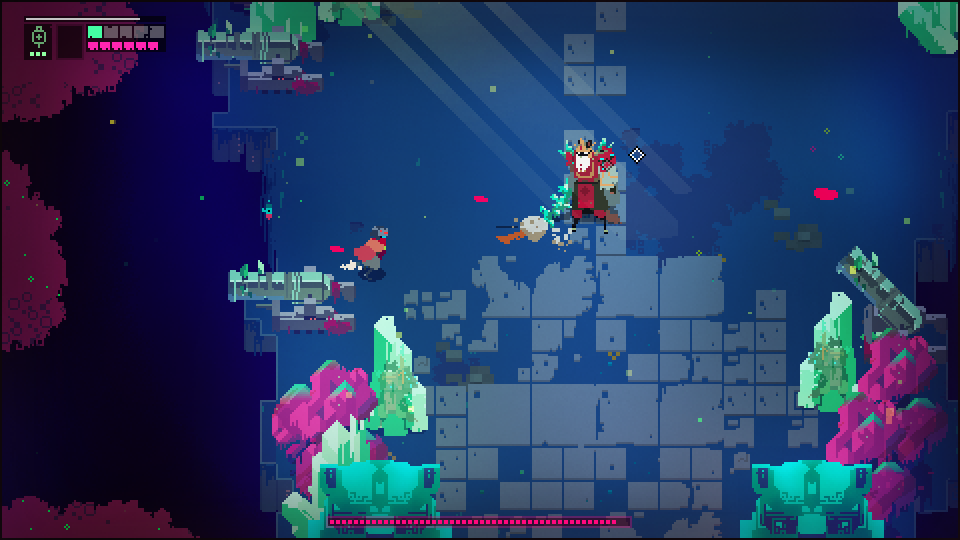hanged_man: (520, 135, 626, 240)
player: (353, 224, 389, 273)
